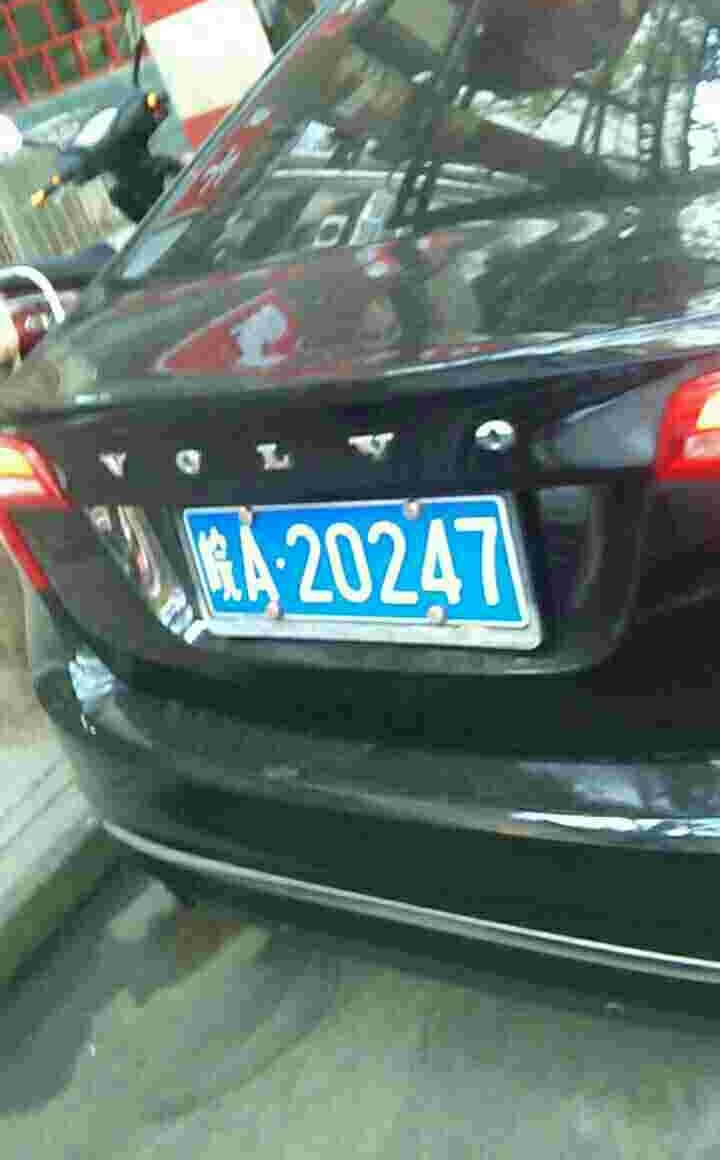license_plate: (183, 495, 518, 629)
